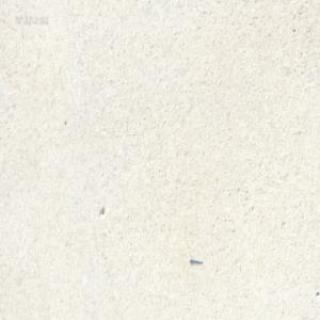Nailtrack_idkeyframe: (188, 254, 202, 263)
